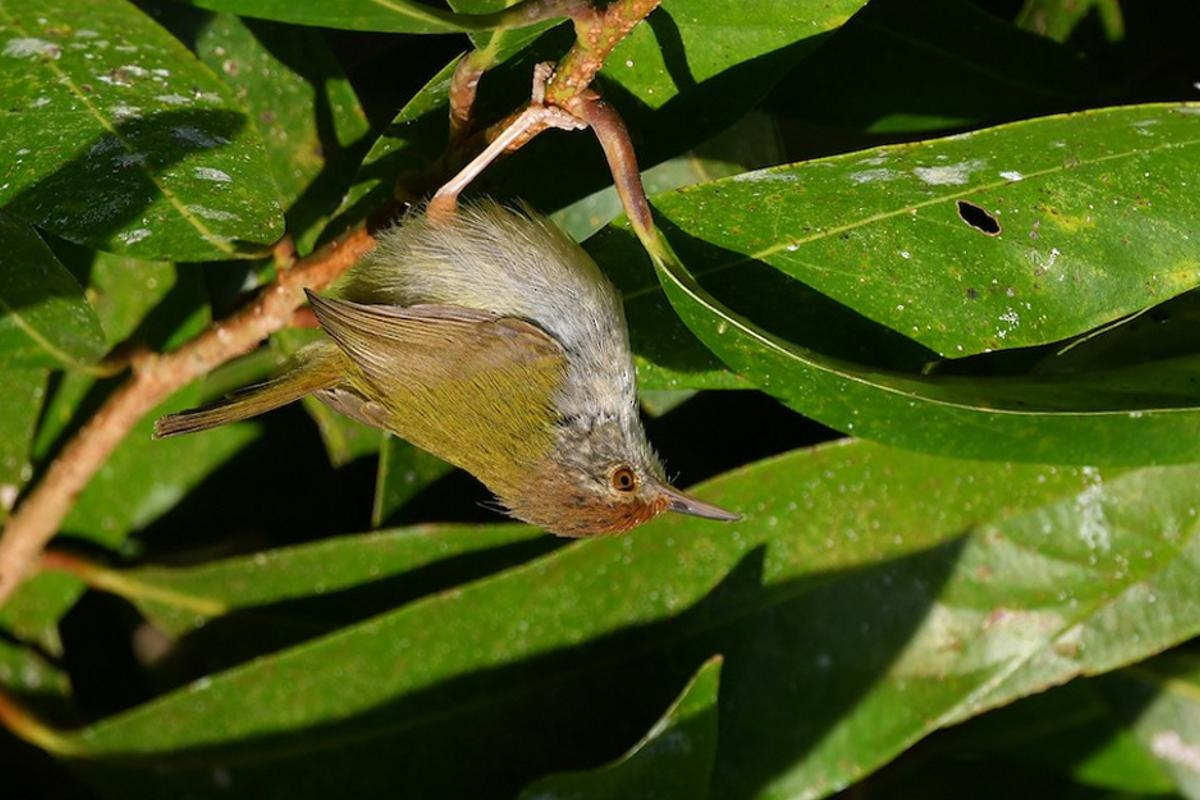tailorbird: (283, 168, 755, 546)
